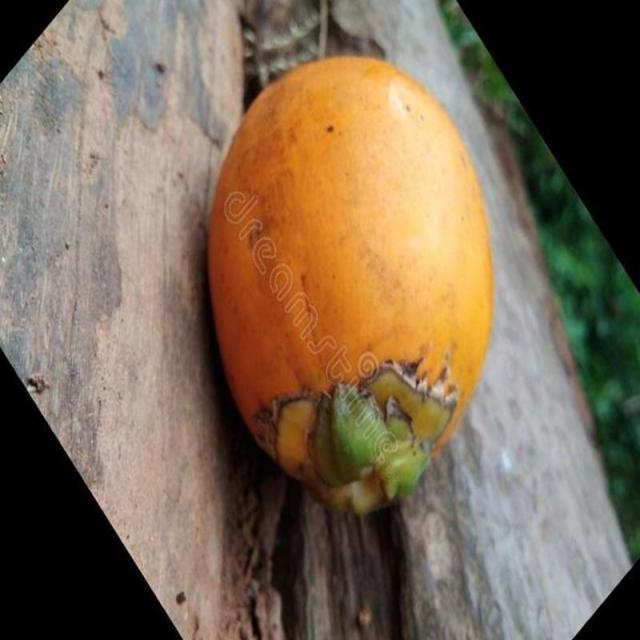good: (207, 57, 494, 518)
